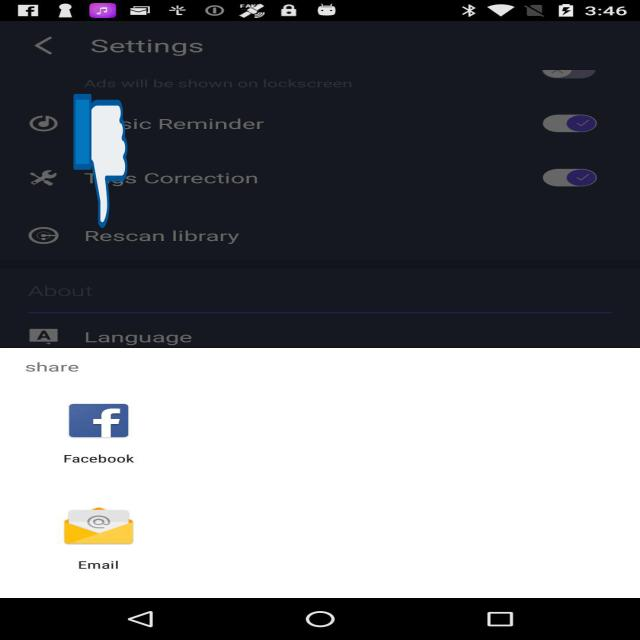obstruction: (74, 91, 128, 231)
